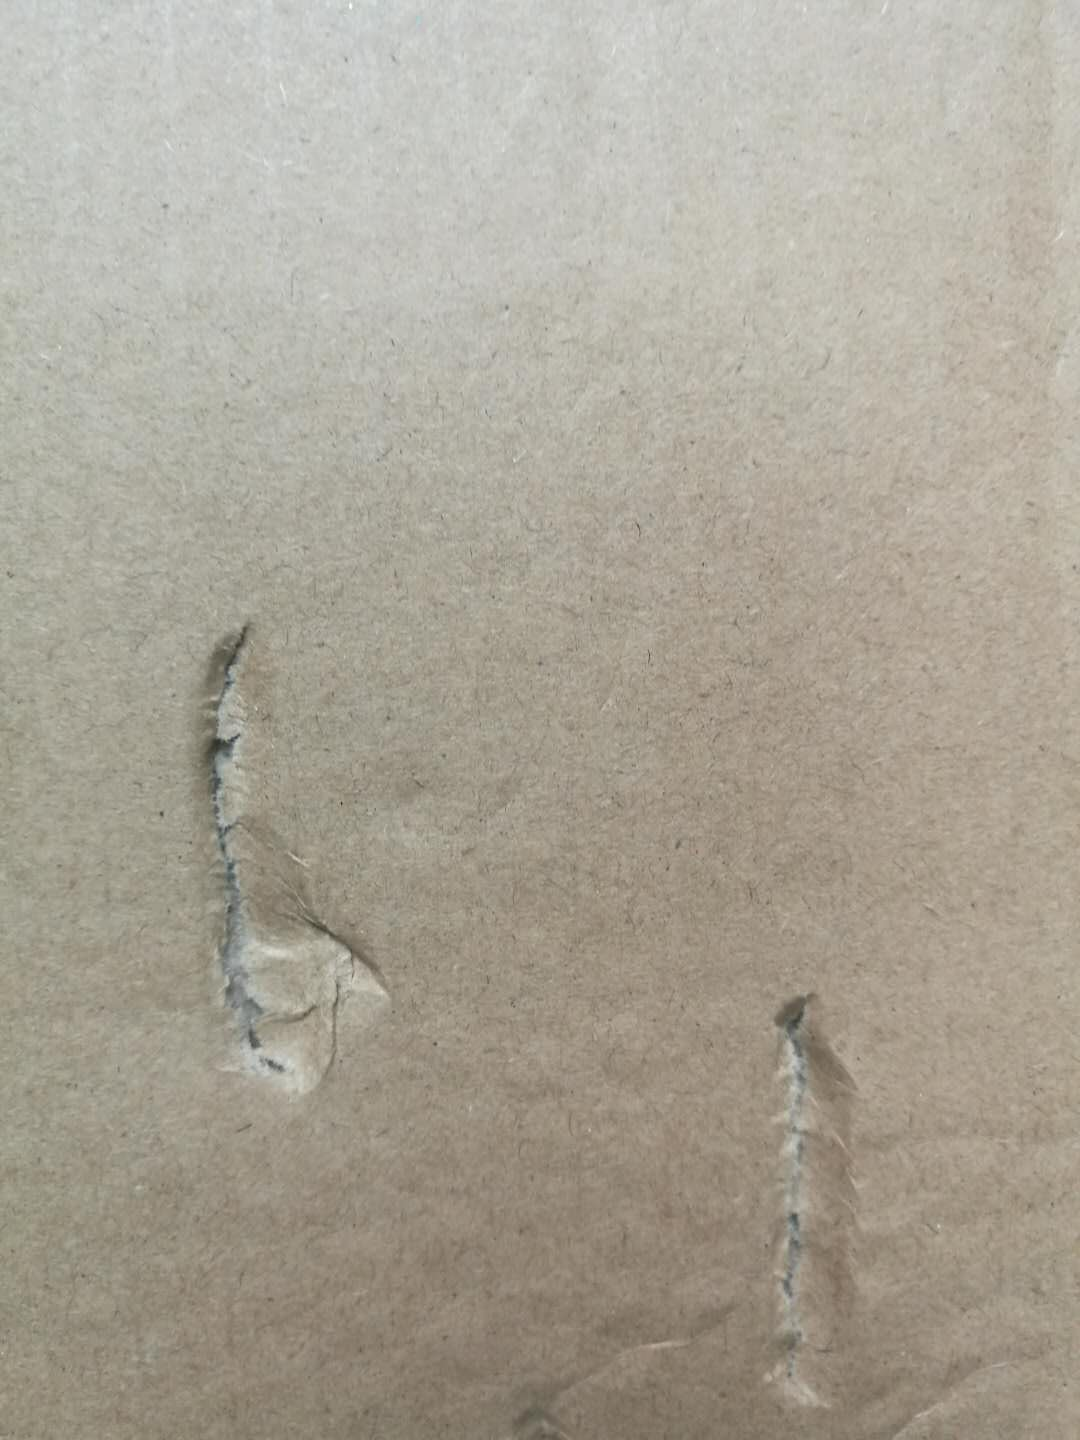defect: (154, 593, 415, 1128), (725, 969, 903, 1421), (492, 1301, 716, 1440)
